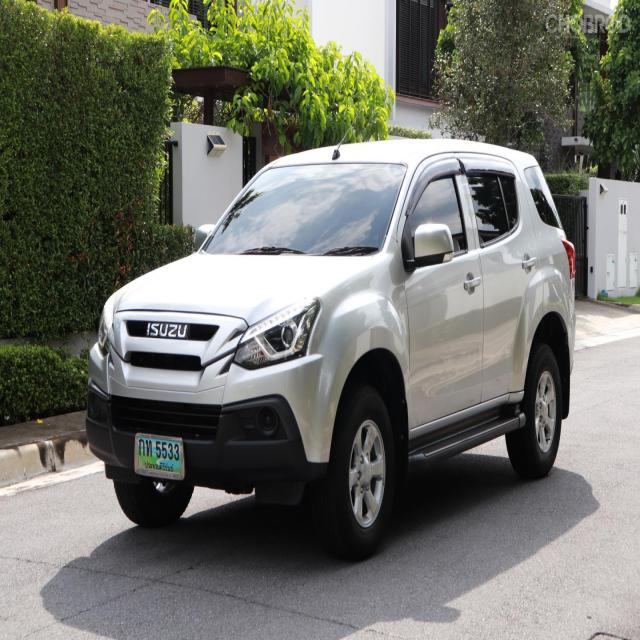license_plate: (134, 431, 185, 482)
